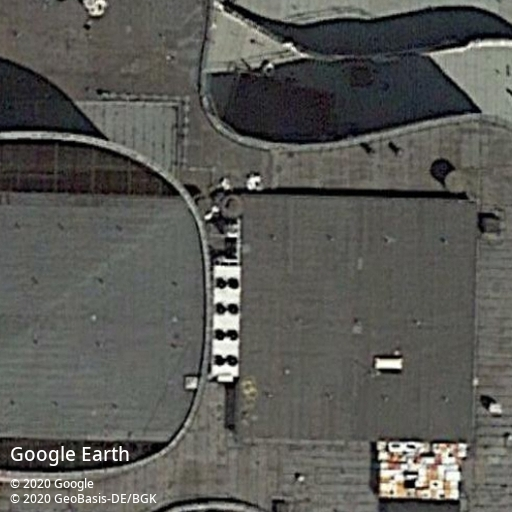Chiller: (209, 265, 243, 383)
